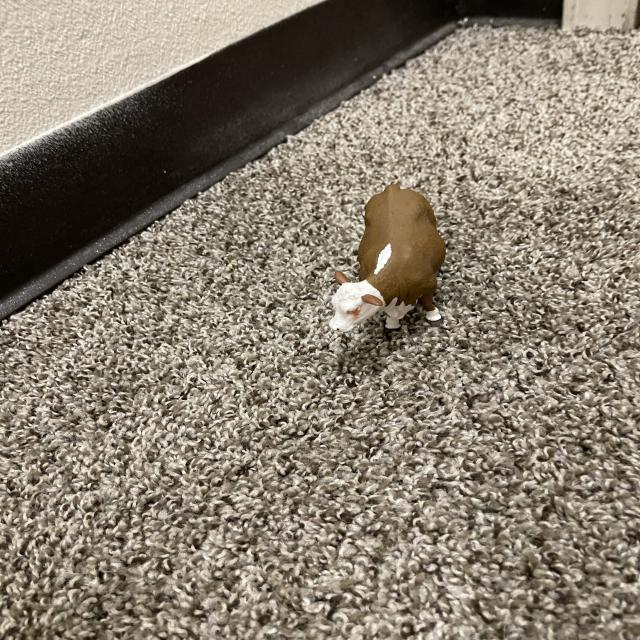cow: (329, 180, 451, 340)
